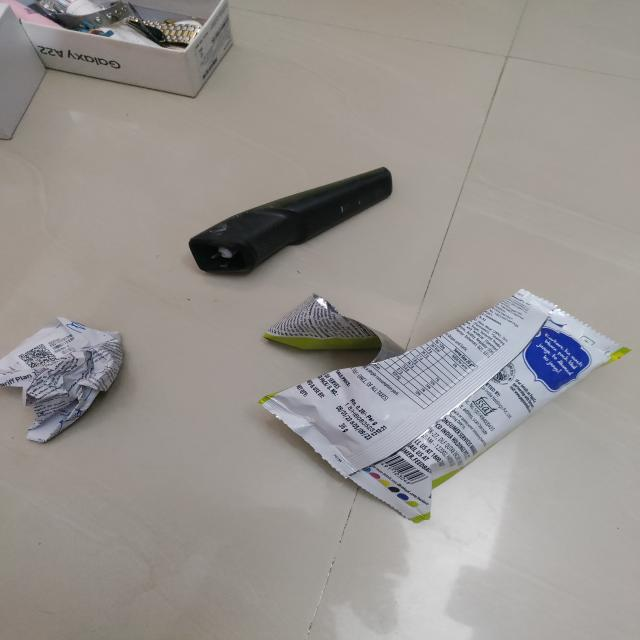dry: (223, 282, 627, 536), (174, 150, 413, 282), (0, 309, 155, 467)
